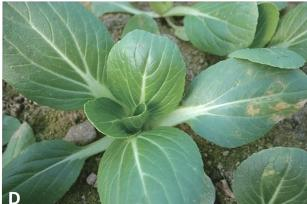Bok-Choy-Diseased: (183, 55, 307, 149)
